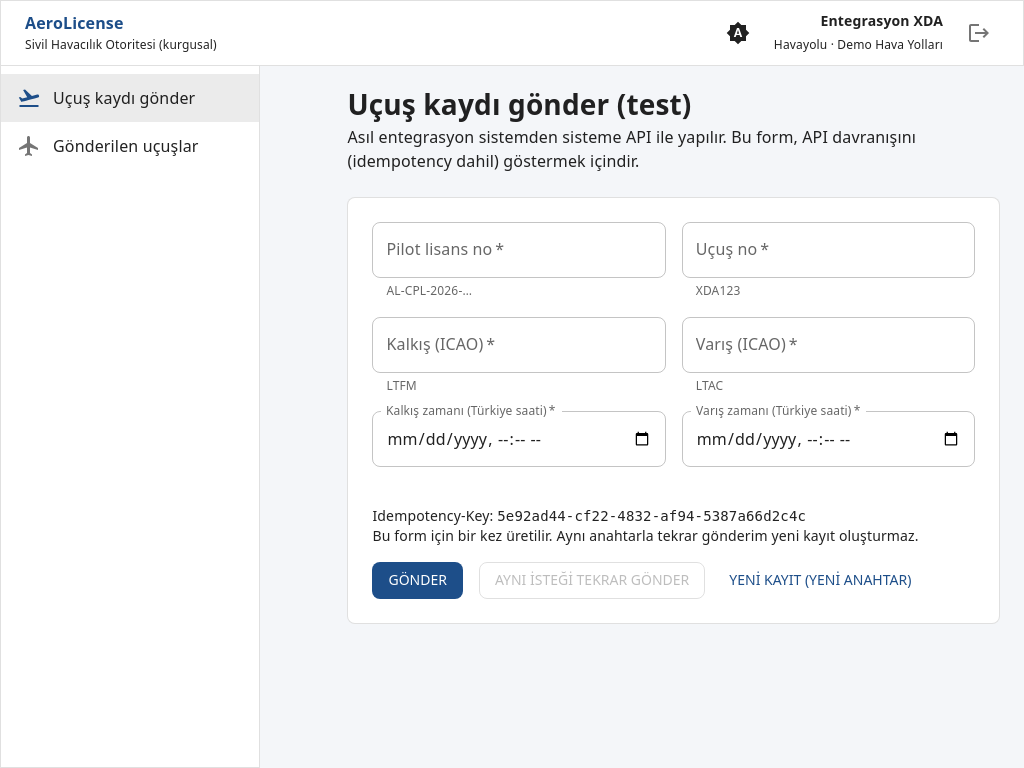
Havayolu uçuş gönderimi (idempotency) › aynı havalimanı ve ters saat istemcide yakalanır
The width and height of the screenshot is (1024, 768).
Step 1. Type "AL-PPL-2025-ABC234" into the field labelled "Pilot lisans no *" → (519, 250), box [372, 222, 666, 278]
Step 2. Type "XDA777" into the field labelled "Uçuş no *" → (828, 250), box [682, 222, 975, 278]
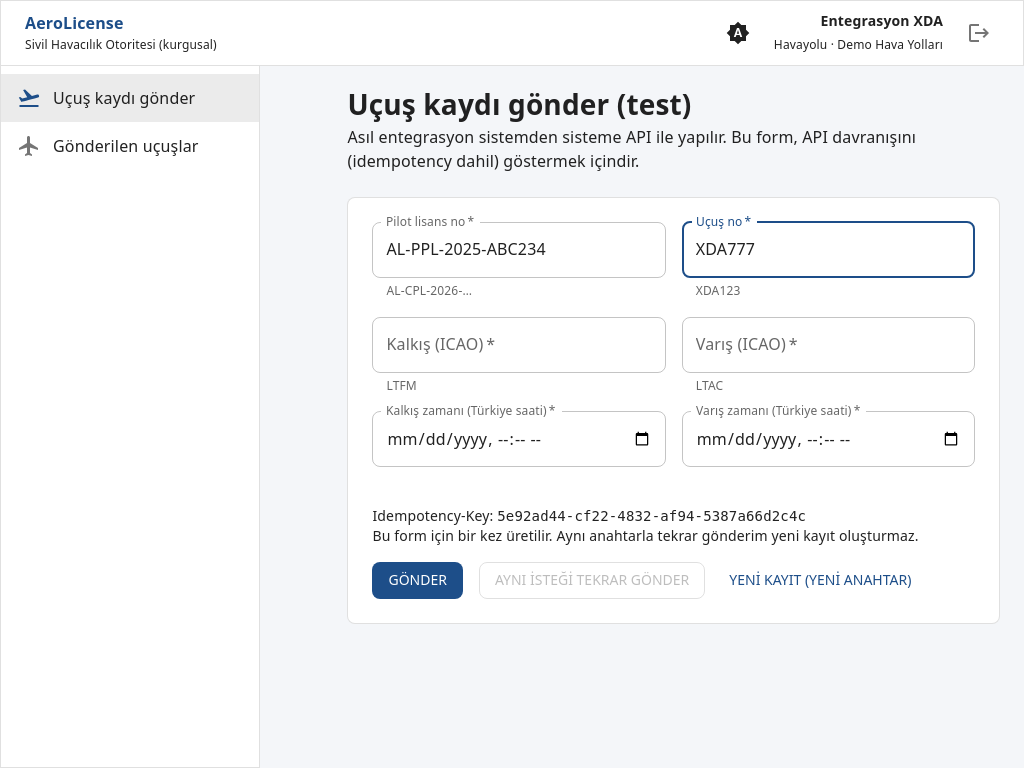
Step 3. Type "LTFM" into the field labelled "Kalkış (ICAO) *" → (519, 345), box [372, 317, 666, 373]
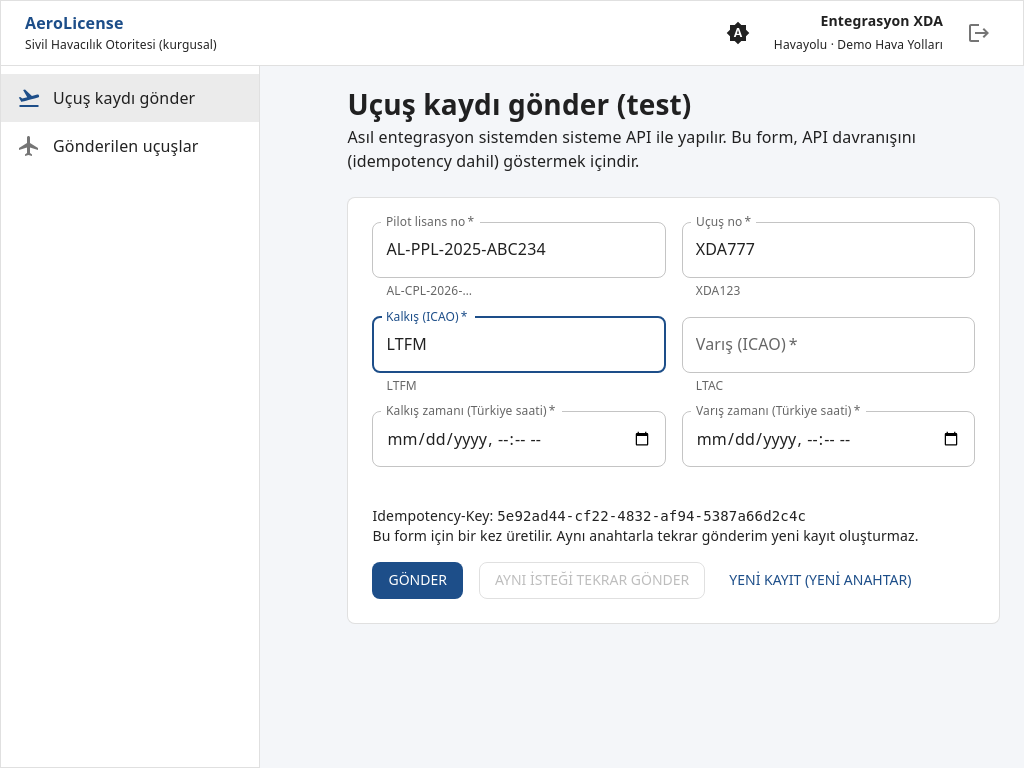
Step 4. Type "LTFM" into the field labelled "Varış (ICAO) *" → (828, 345), box [682, 317, 975, 373]
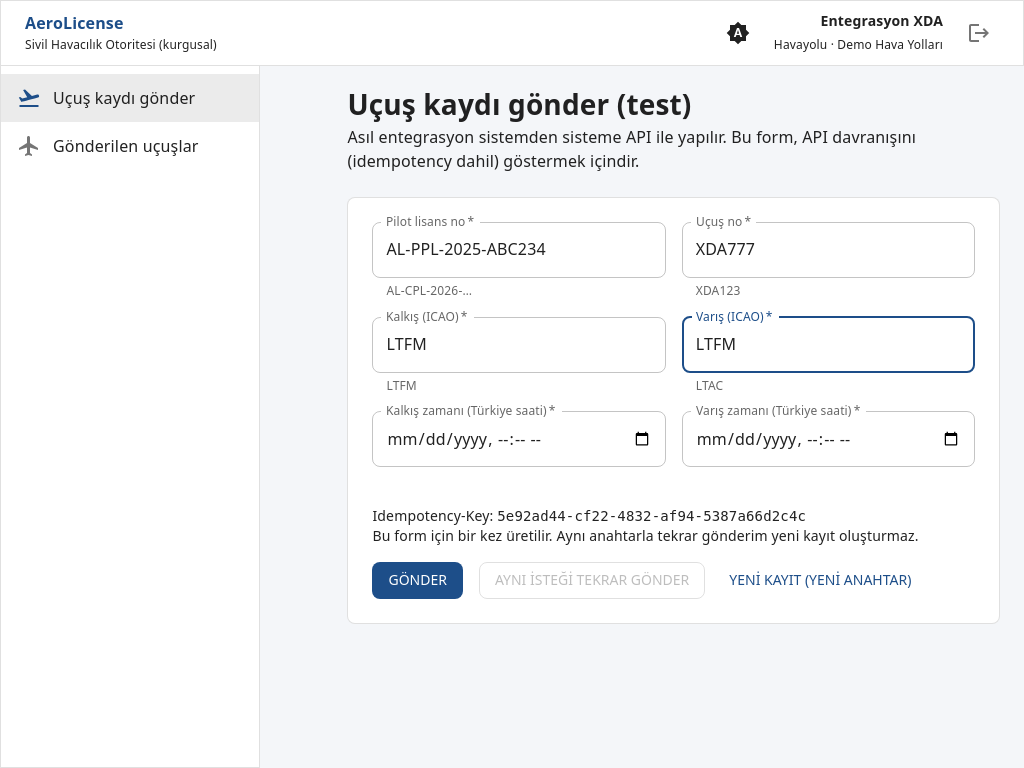
Step 5. Type "2026-09-27T10:00" into the field labelled "Kalkış zamanı (Türkiye saati) *" → (519, 440), box [372, 412, 666, 468]
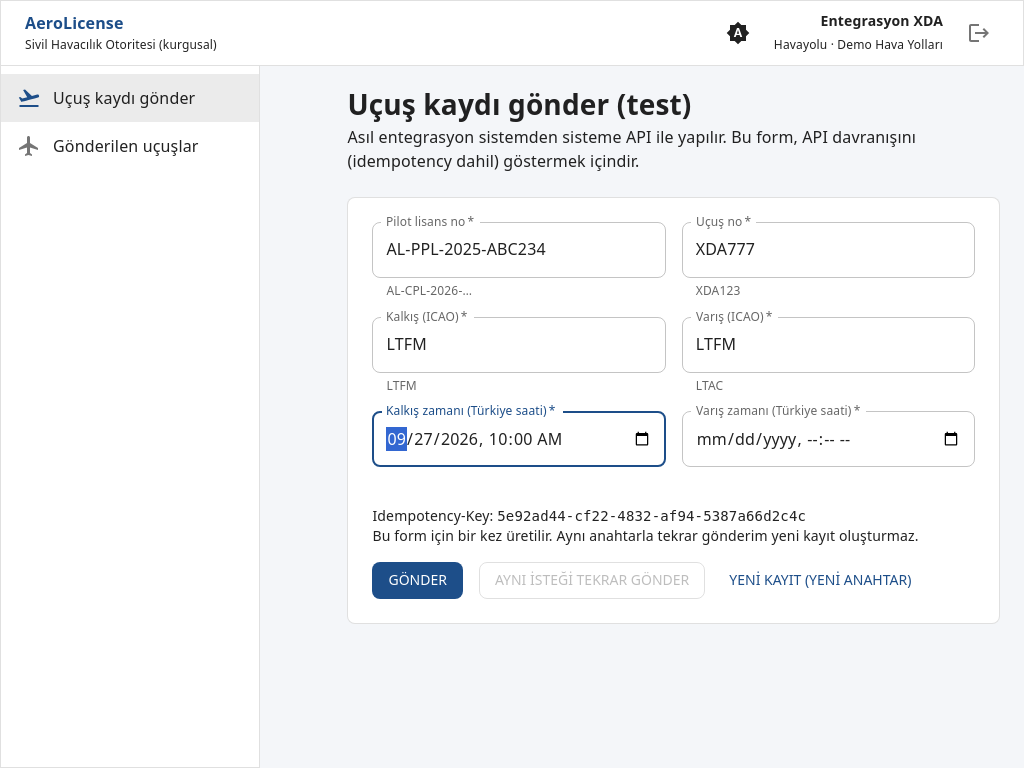
Step 6. Type "2026-09-27T09:00" into the field labelled "Varış zamanı (Türkiye saati) *" → (828, 440), box [682, 412, 975, 468]
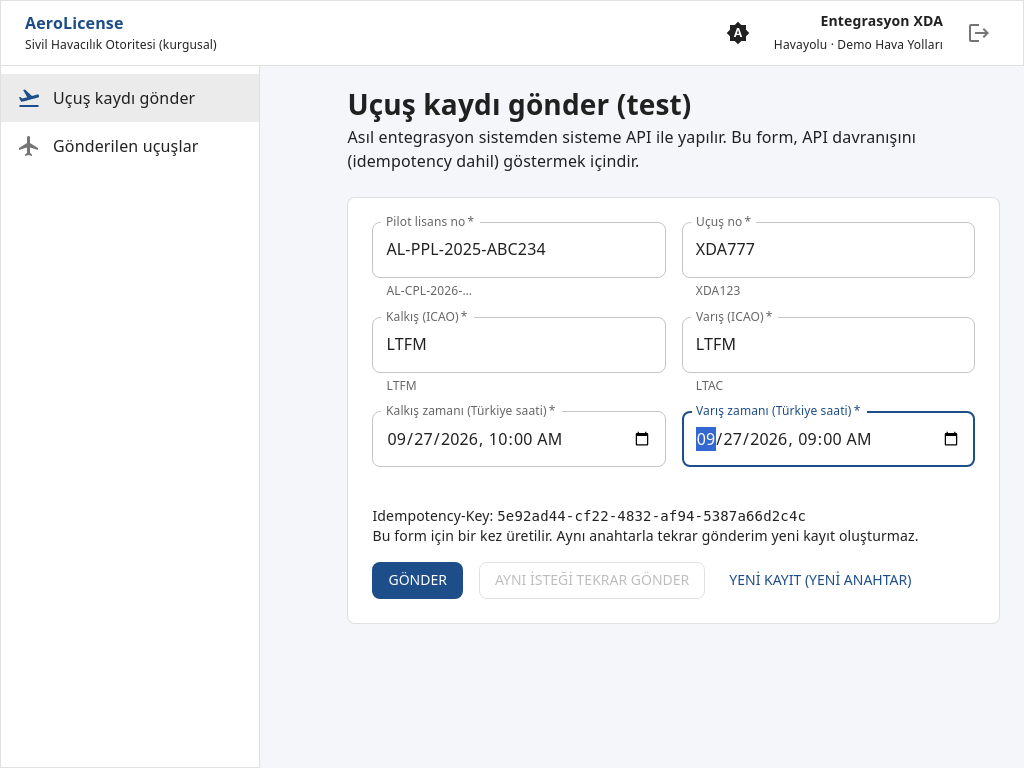
Step 7. Click the button "Gönder" → (418, 581), box [372, 562, 463, 599]
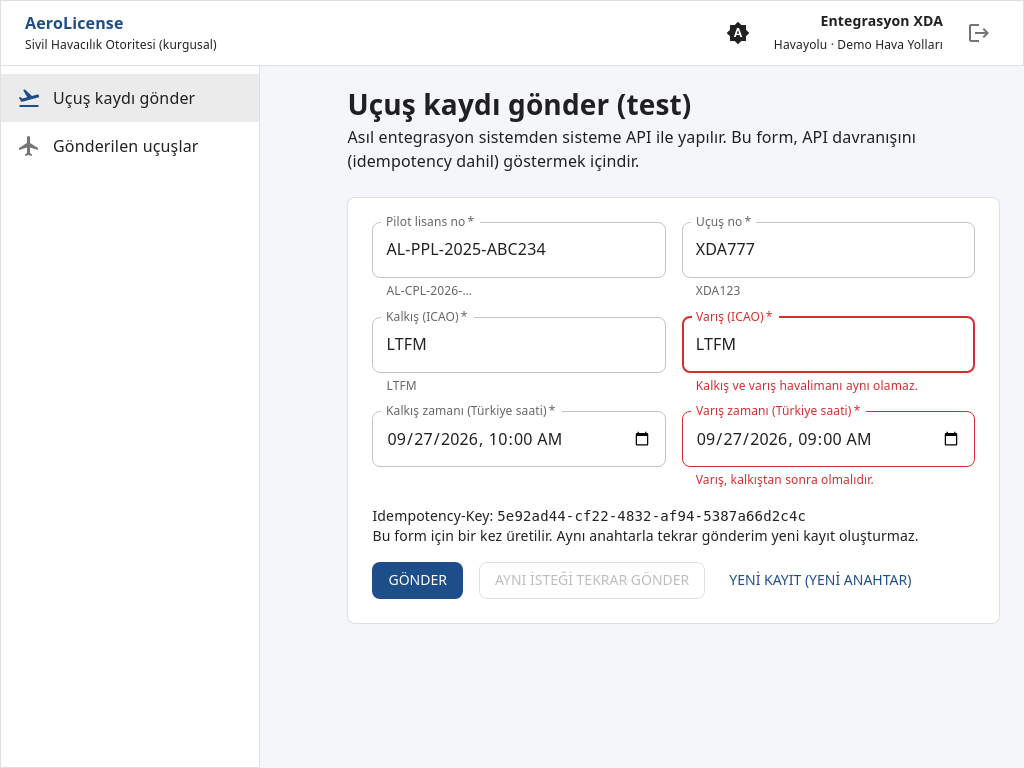
Expected: the text "Kalkış ve varış havalimanı aynı olamaz." is shown, [696, 377, 918, 394]
